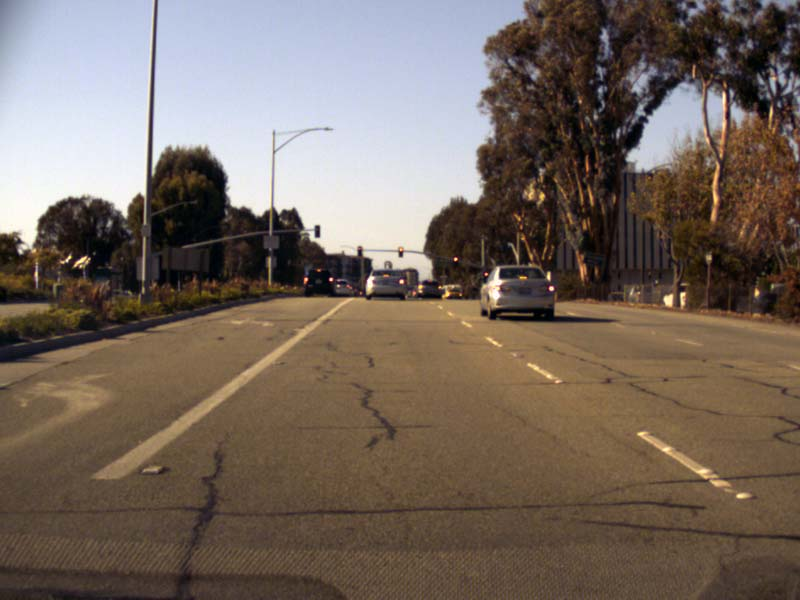Red: (482, 271, 489, 283), (453, 255, 458, 267), (398, 246, 403, 257), (357, 245, 362, 256)
